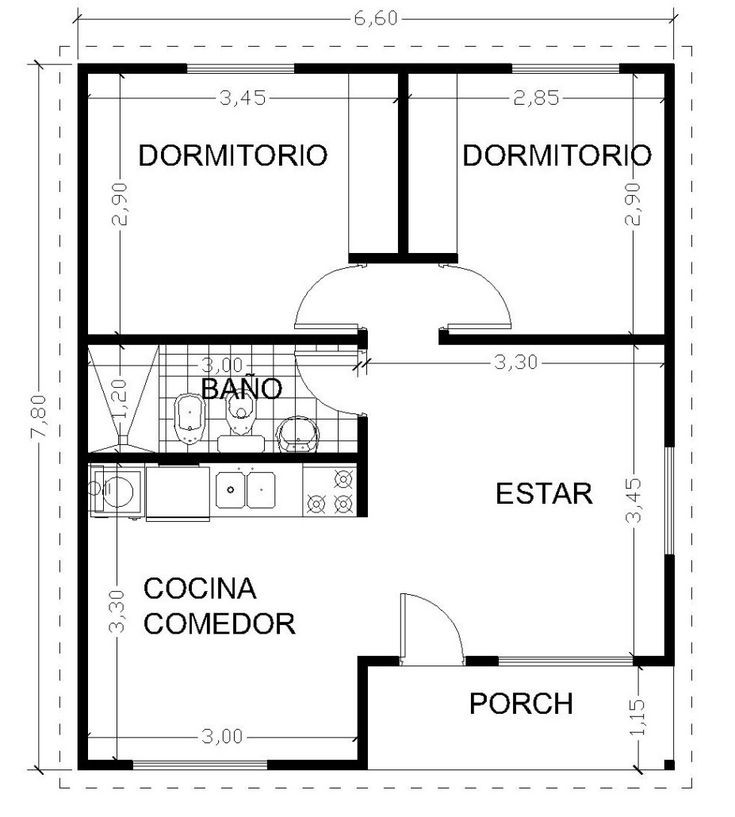door: (371, 574, 486, 667), (285, 228, 365, 336), (436, 254, 515, 332)
room: (363, 337, 678, 673), (80, 460, 361, 774), (78, 65, 370, 340), (408, 74, 677, 347), (82, 341, 358, 455)
wall: (65, 47, 100, 775), (655, 52, 694, 451), (442, 315, 681, 355), (74, 448, 371, 471), (79, 328, 373, 351), (291, 53, 513, 81), (265, 746, 378, 787), (71, 48, 189, 84), (659, 551, 686, 667), (350, 646, 374, 774), (354, 416, 373, 524), (75, 746, 137, 779), (618, 54, 683, 82), (634, 642, 686, 675), (351, 650, 405, 674), (465, 646, 501, 676)
window: (133, 740, 269, 793), (186, 41, 298, 87), (500, 647, 638, 682), (655, 439, 687, 559), (510, 57, 630, 87)
